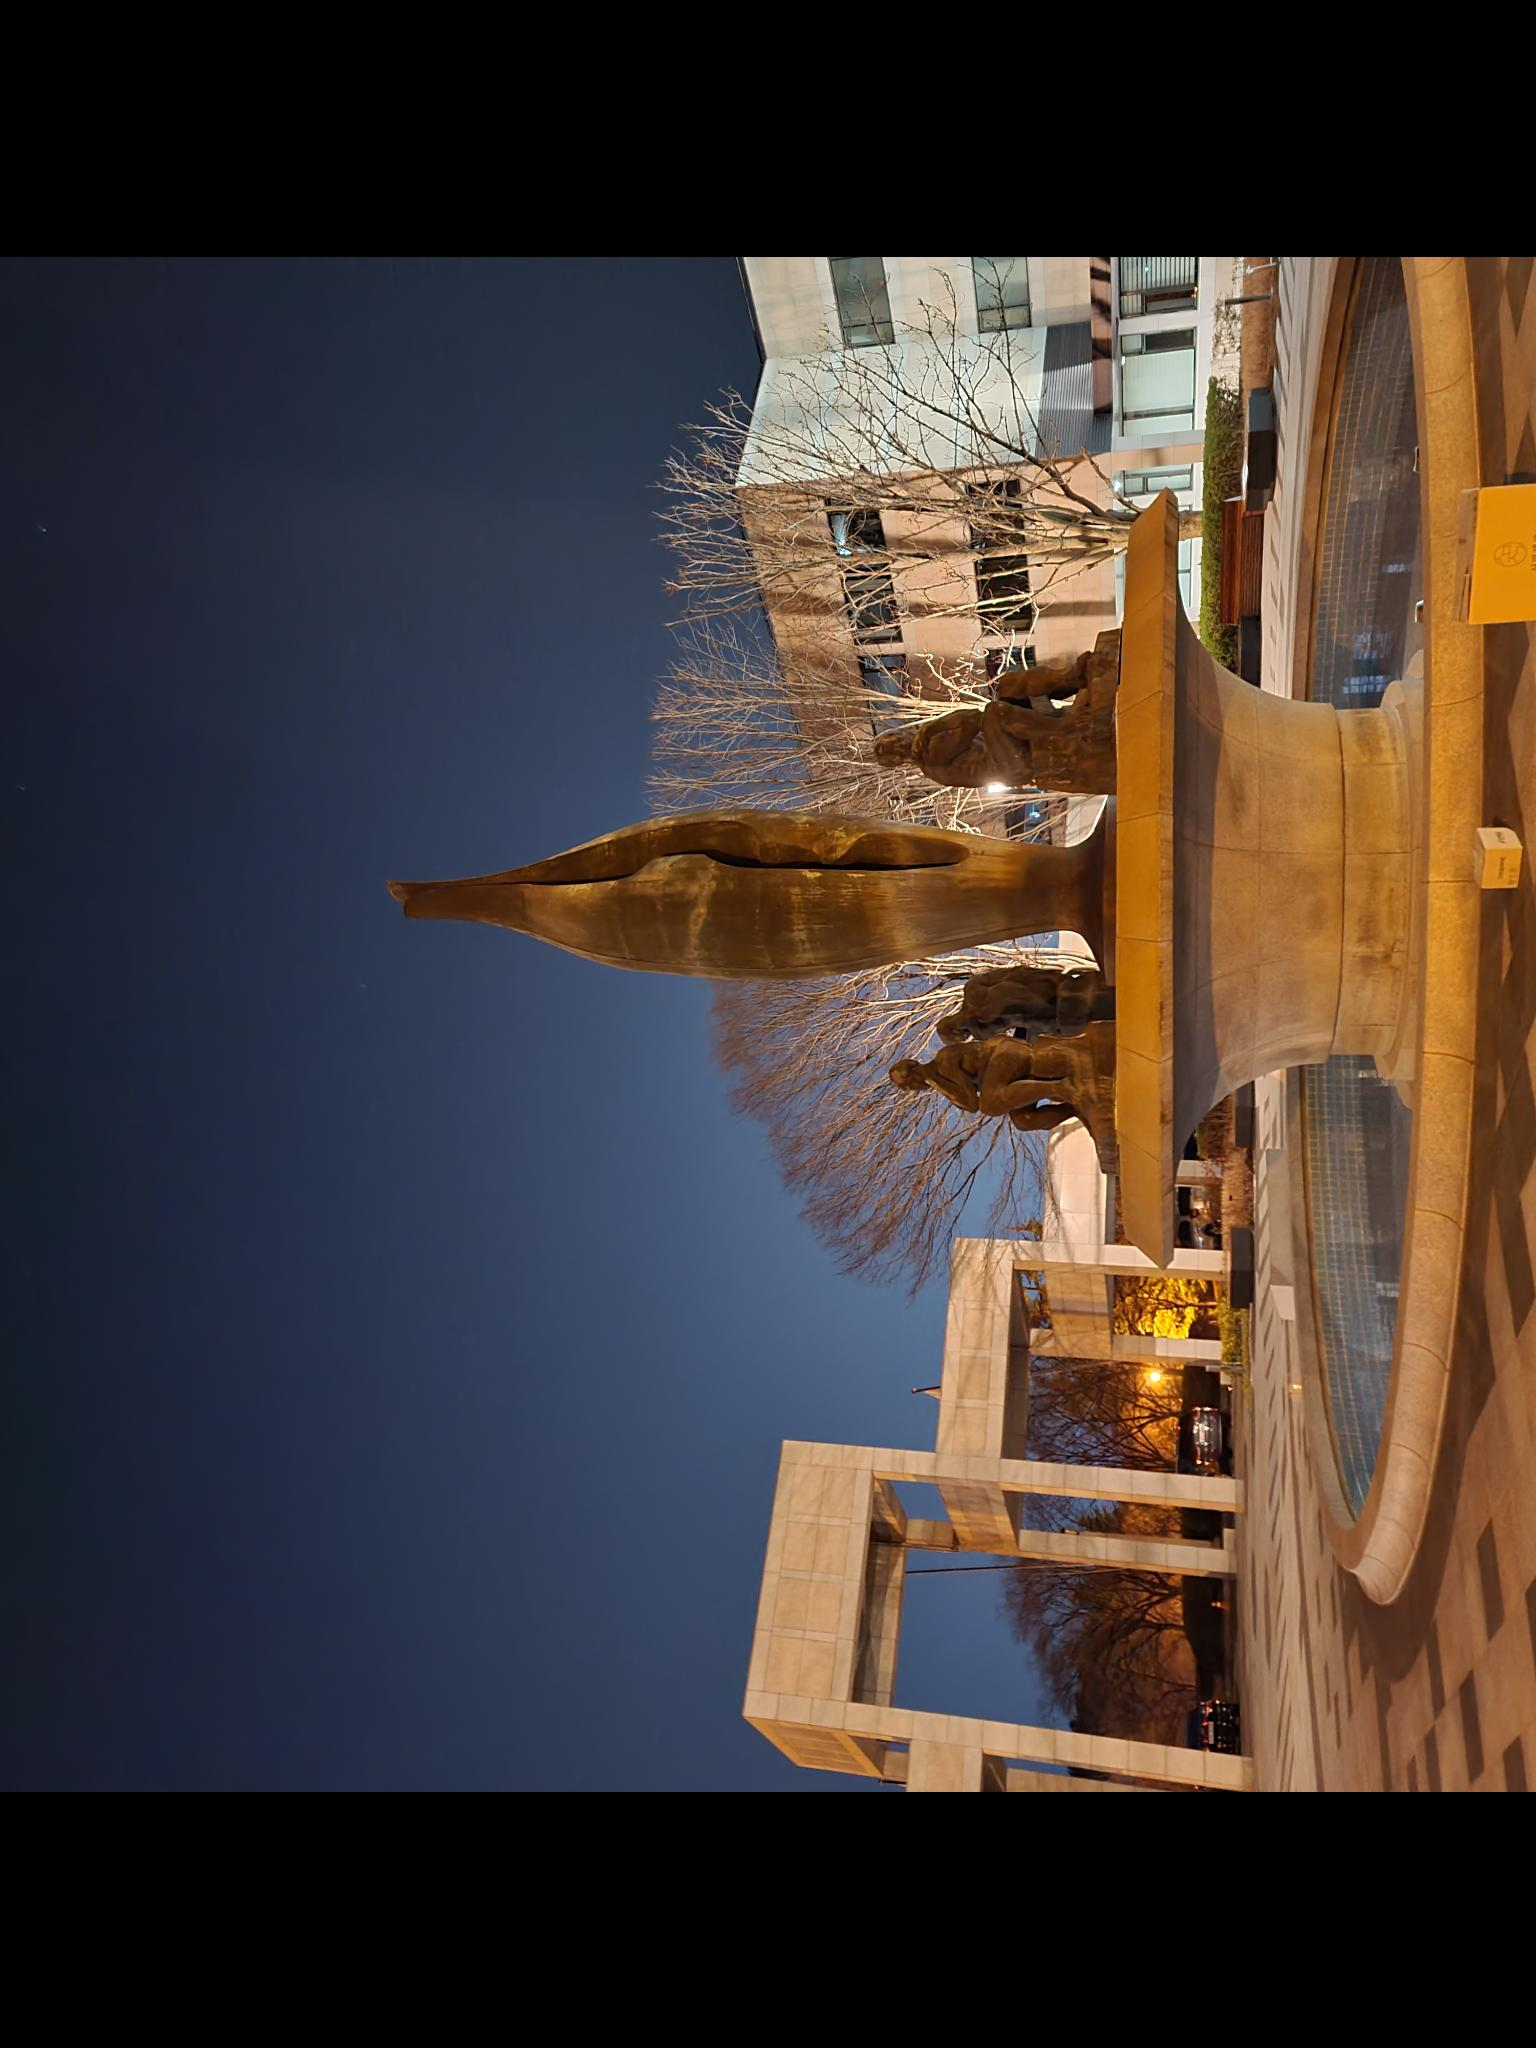Box: (1446, 469, 1536, 629), (1462, 805, 1536, 906)
